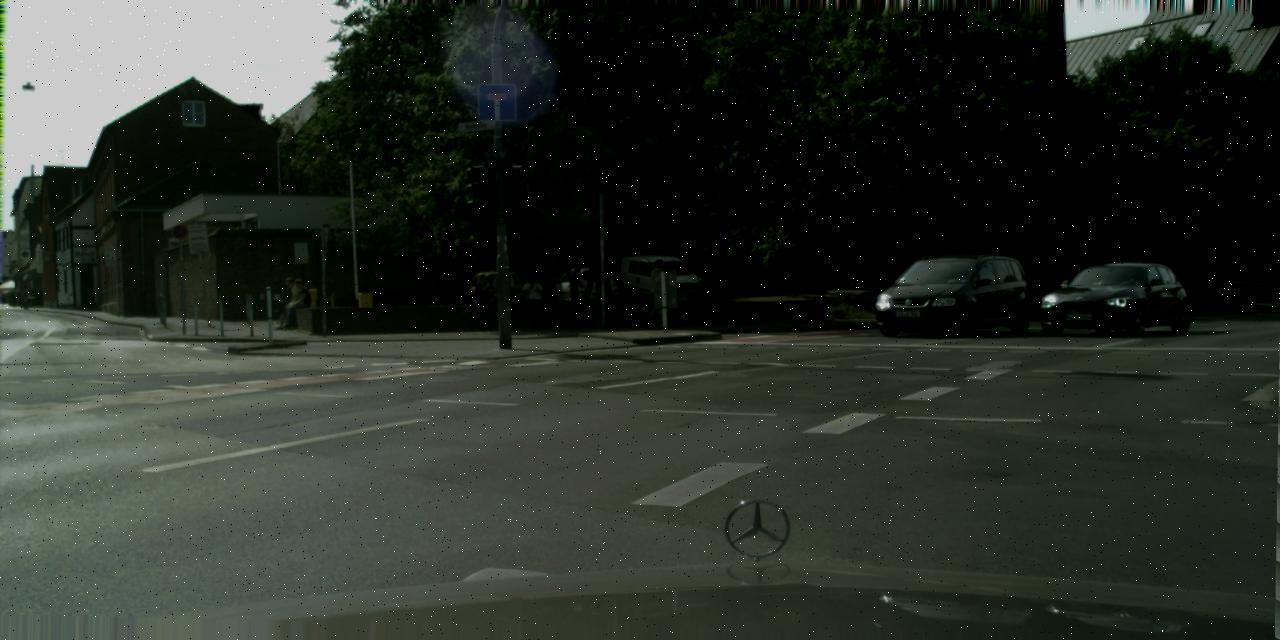ped: (645, 259, 671, 324)
